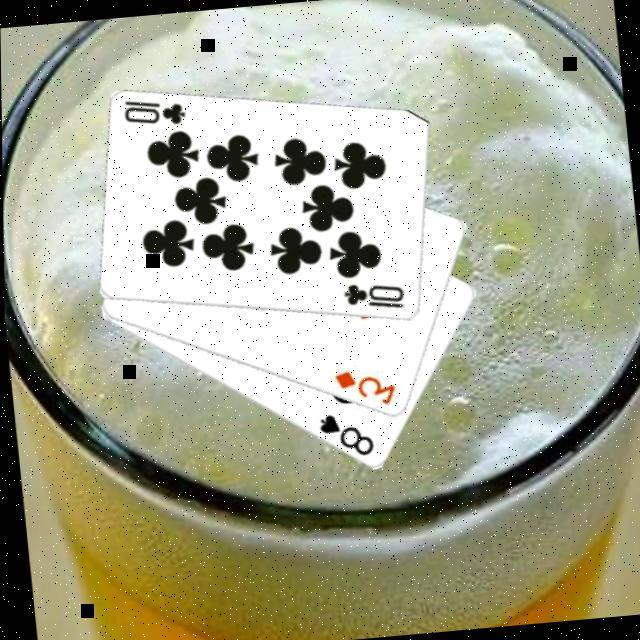10C: (119, 91, 190, 130), (339, 275, 408, 314)
3D: (329, 361, 400, 411)
8S: (313, 405, 377, 460)
